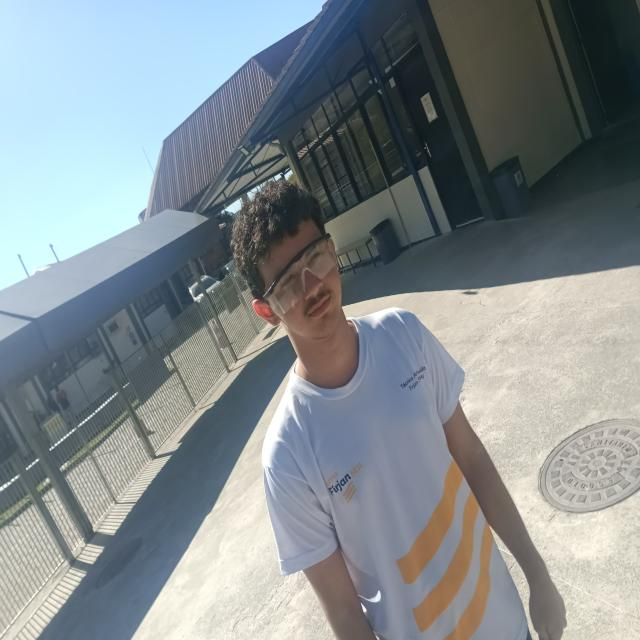oculos-epi: (263, 233, 337, 313)
